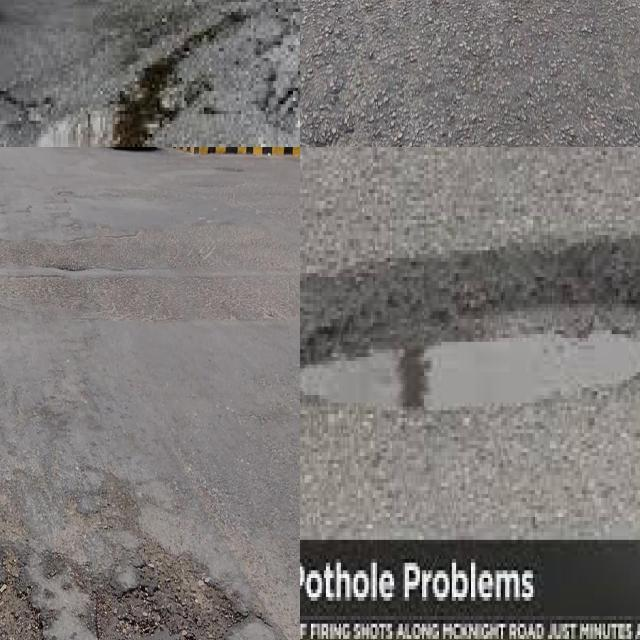Pothole: (300, 285, 640, 410), (96, 544, 243, 640)
